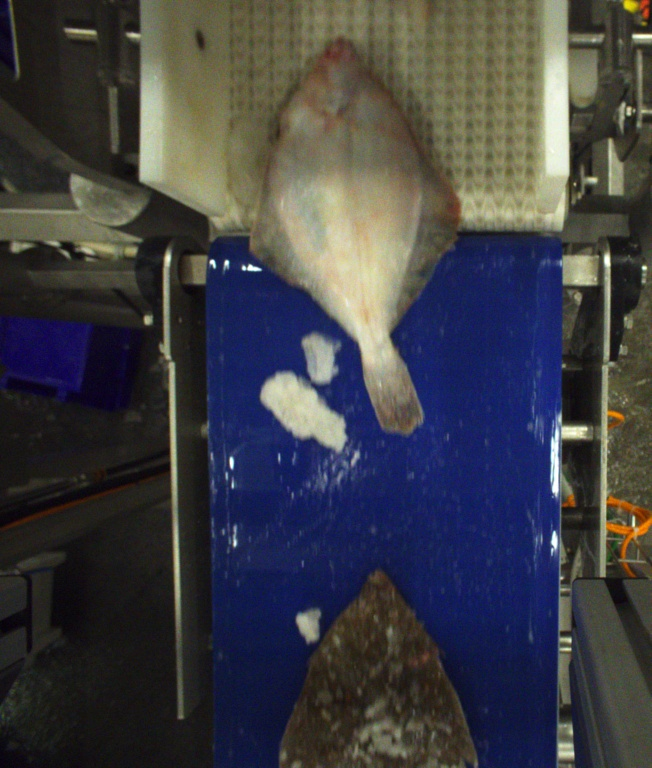PLE: (248, 36, 461, 436)
